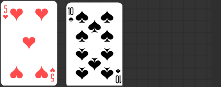10C: (114, 67, 121, 84)
4H: (48, 66, 55, 82)
